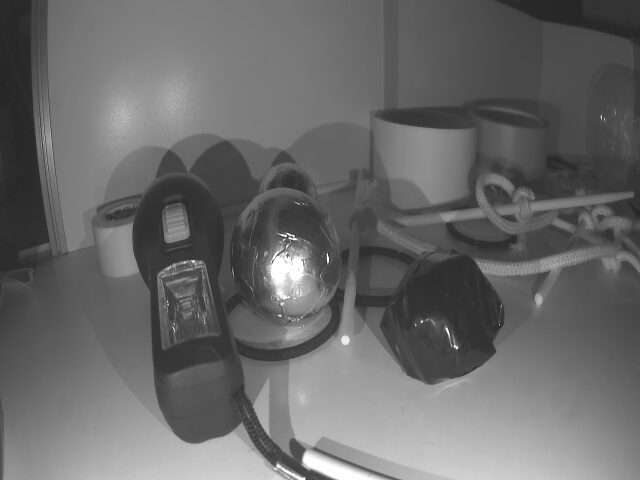Dead: (380, 244, 505, 384)
Live: (237, 196, 339, 321), (263, 161, 315, 209)
